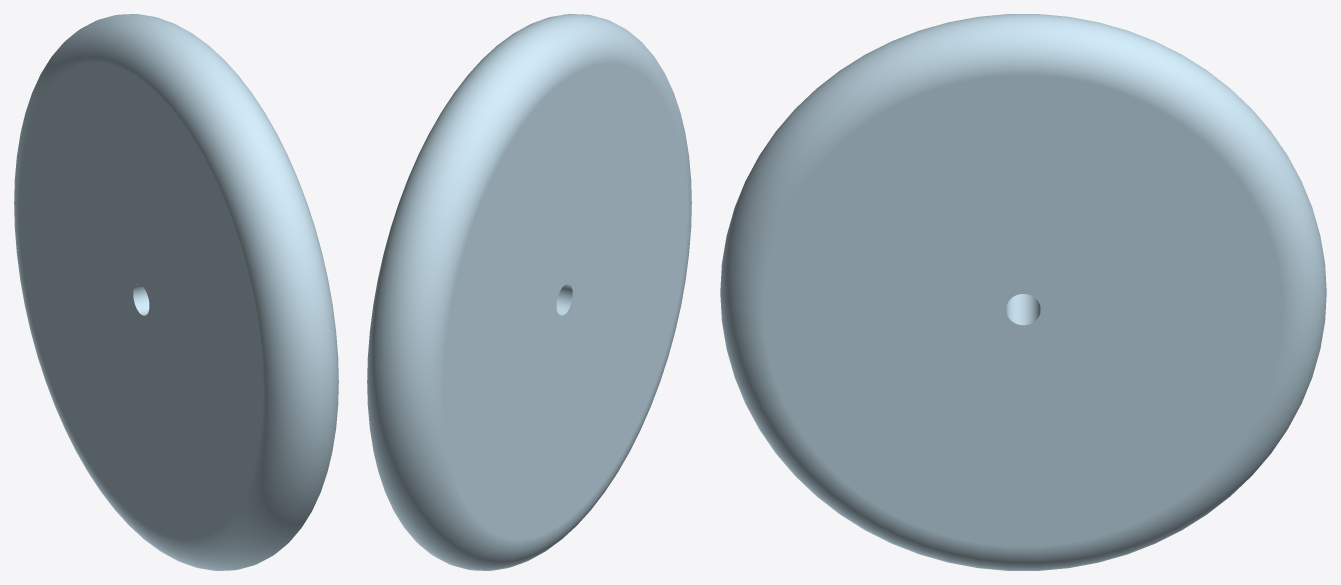
File: Wheel Middle - Part 1.gltf
3 views of the same model, side by side, from view 1: azimuth 30°, elevation 25°; view 2: azimuth 150°, elevation 25°; view 3: azimuth 270°, elevation 25° (orthographic). The views are drawn at different scales.
Visible parts, largest first — view 1: Part 1; view 2: Part 1; view 3: Part 1.
Boxes of the visible parts, <box> form: Part 1: <box>14,14,338,570</box>; Part 1: <box>367,14,691,570</box>; Part 1: <box>720,14,1326,570</box>.
Size of the model in its own units: 0.0127 by 0.0888 by 0.0889.
